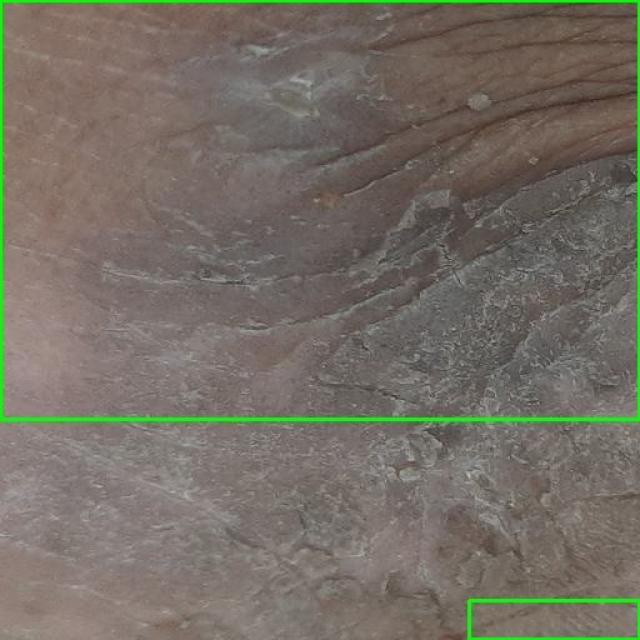Eczema: (0, 0, 639, 419), (469, 600, 639, 639)
